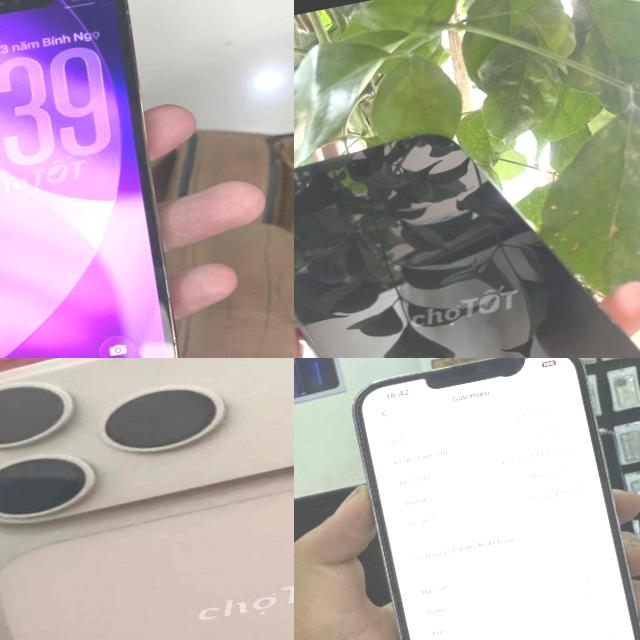gen_12_13: (294, 86, 640, 358), (346, 358, 640, 640), (0, 0, 218, 358)
gen_17: (0, 358, 294, 640)
